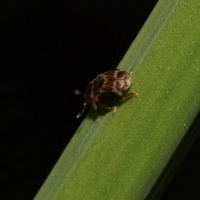insect: (76, 69, 138, 117)
